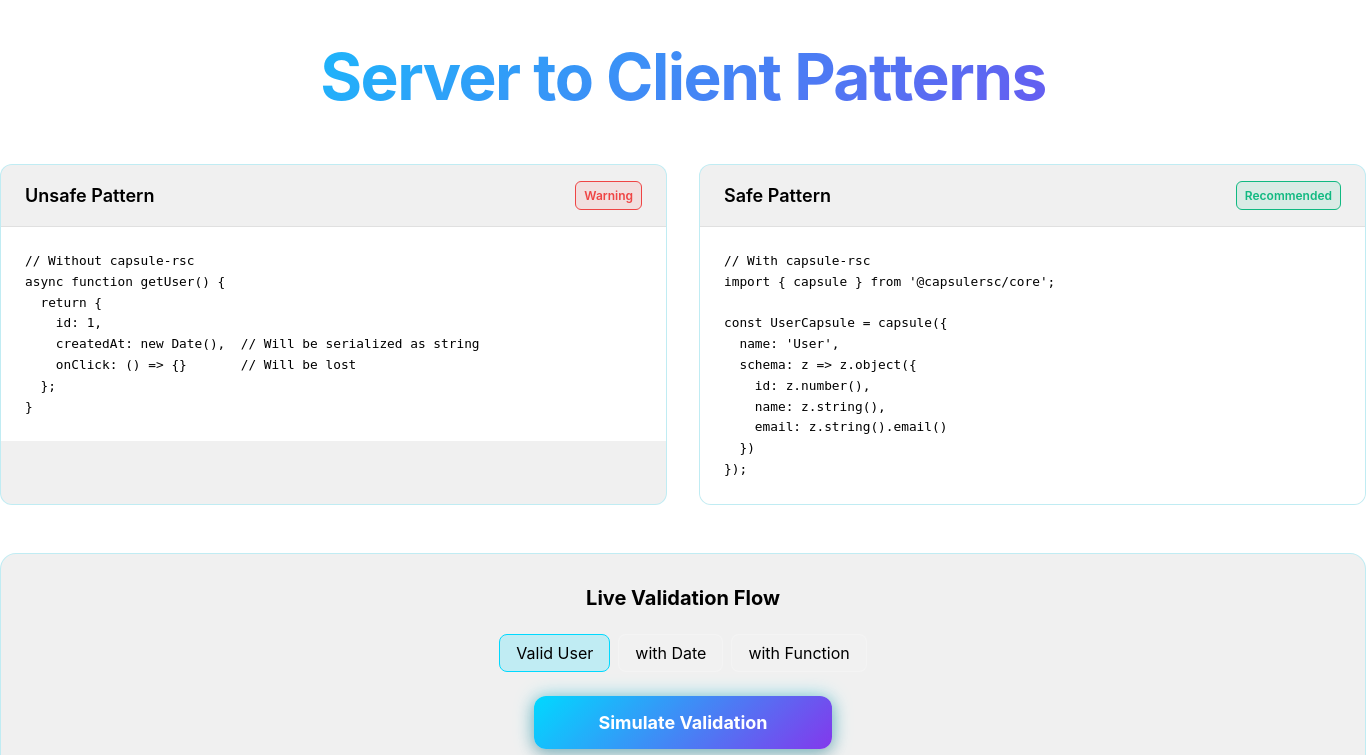
Test: ServerClientDemo › interactive validation flow › should show validation flow when simulation starts
The width and height of the screenshot is (1366, 755).
Click the button "Simulate Validation".
click(683, 722)  # box [534,696,832,749]
(page scrolled)
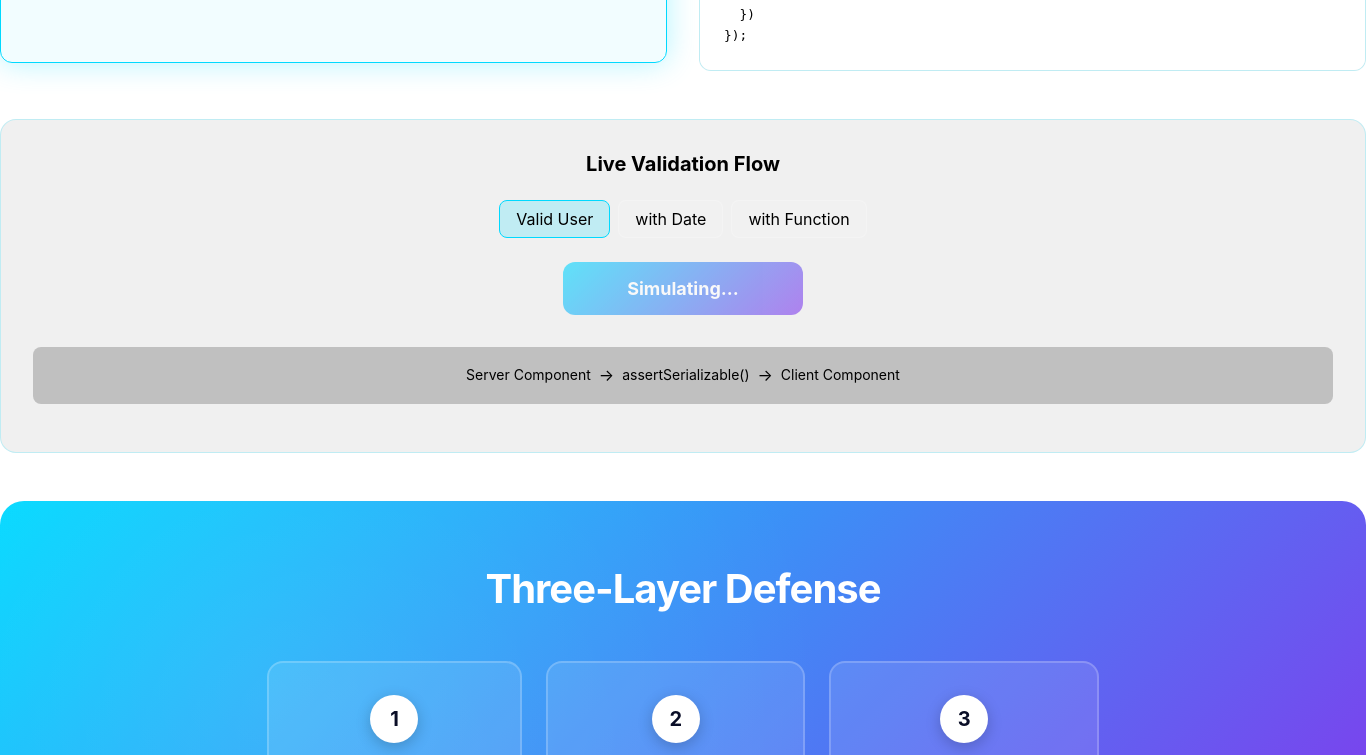
Check: the element with test id "validation-flow" is shown, box [33,347,1333,404]
